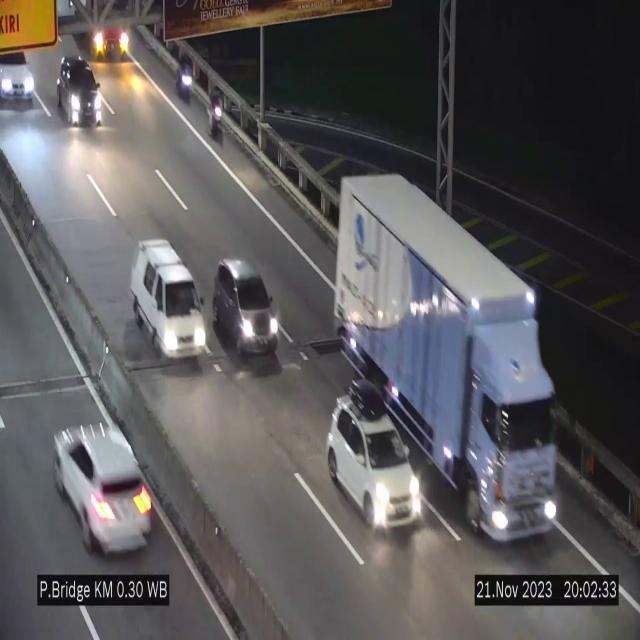Car: (54, 394, 156, 556), (327, 386, 423, 529), (131, 241, 210, 362), (212, 259, 280, 361), (72, 0, 142, 63), (0, 27, 42, 123), (54, 52, 103, 130)
Motorcycle: (206, 79, 226, 146), (174, 44, 195, 104)
Truck: (332, 171, 557, 533)
